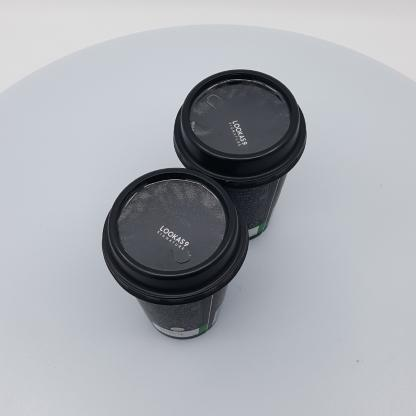-------------: (102, 167, 249, 340), (173, 69, 307, 241)
